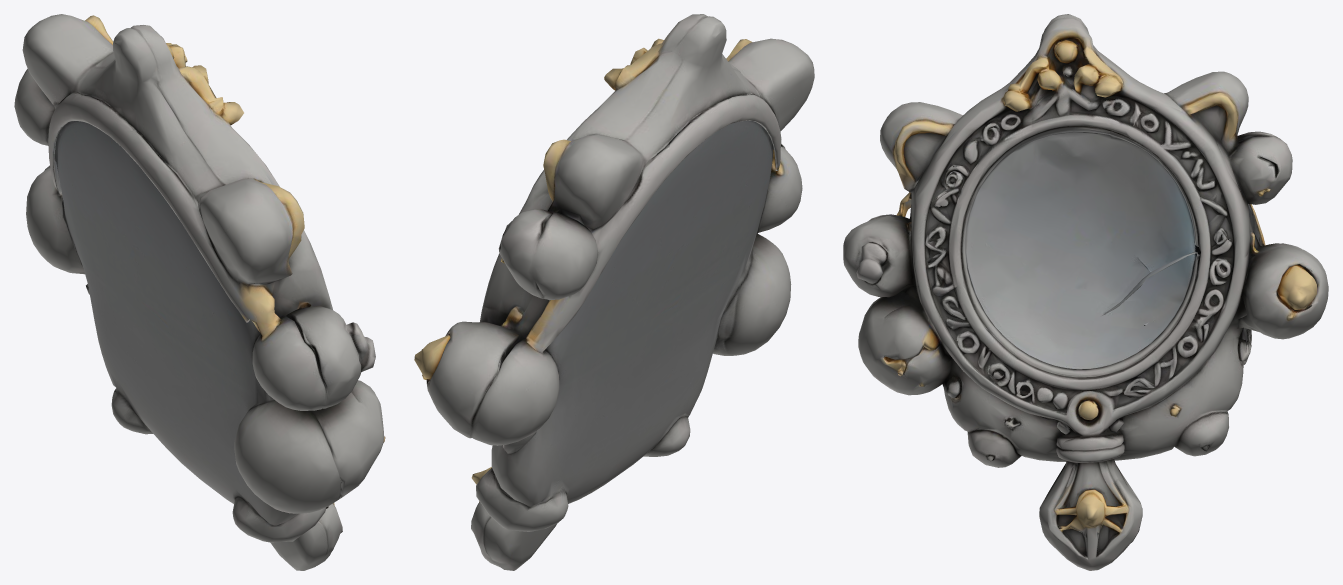
Rendered from backwards_mirror.glb.
3 renders of one model, left to right at view 1: azimuth 30°, elevation 25°; view 2: azimuth 150°, elevation 25°; view 3: azimuth 270°, elevation 25°, orthographic. The views are drawn at different scales.
Parts seen in each view (by area): view 1: tripo_node_0241b9d5-9160-46cf-b1d5-e3338e38d3e6; view 2: tripo_node_0241b9d5-9160-46cf-b1d5-e3338e38d3e6; view 3: tripo_node_0241b9d5-9160-46cf-b1d5-e3338e38d3e6.
Part boxes in pixels (x1,y1,x2,y2): tripo_node_0241b9d5-9160-46cf-b1d5-e3338e38d3e6: (14,14,385,570); tripo_node_0241b9d5-9160-46cf-b1d5-e3338e38d3e6: (414,14,814,570); tripo_node_0241b9d5-9160-46cf-b1d5-e3338e38d3e6: (843,14,1328,570).
Size of the model in its own units: 0.4167 by 0.9801 by 0.8946.
1 material, 1 textured.
